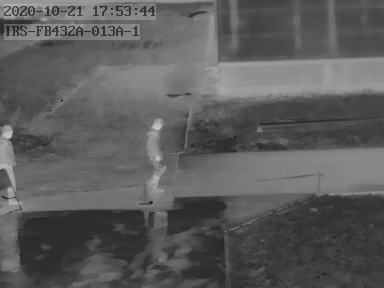person: (144, 117, 167, 189), (1, 125, 16, 198)
